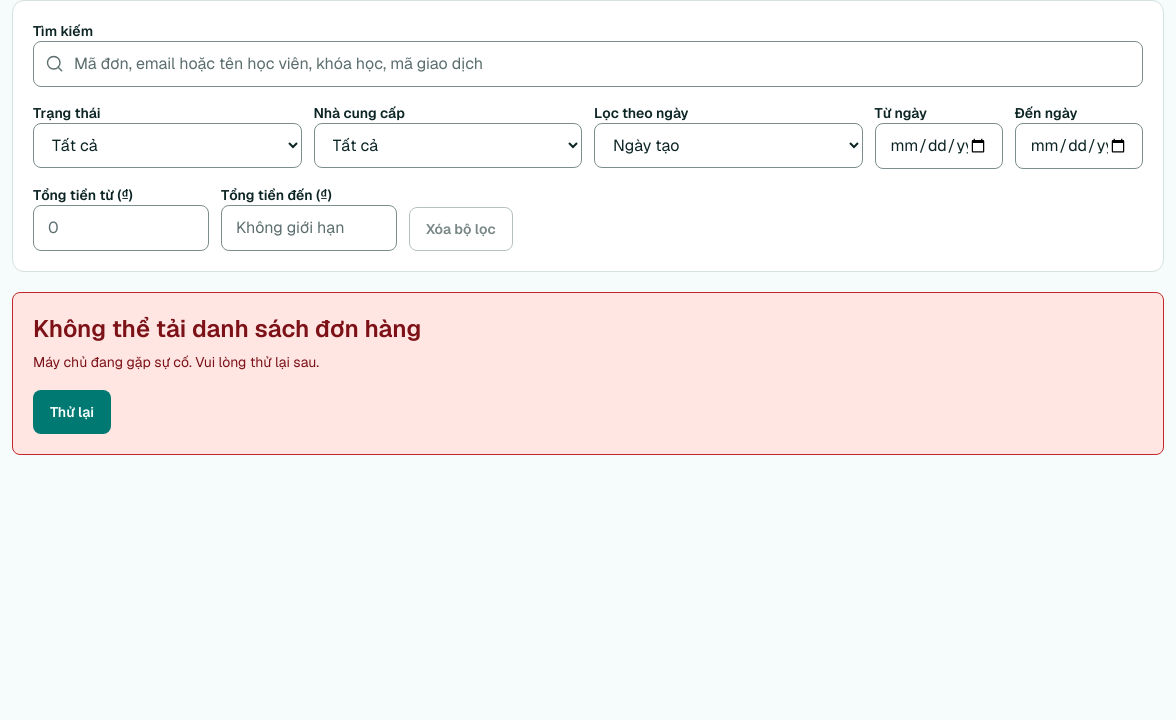
Scenario: OrdersView › shows a Vietnamese error and retries
This screenshot has width=1176, height=720.
Expected: the message shows "Không thể tải danh sách đơn hàng", [33, 313, 421, 344]
Expected: the message shows "Máy chủ đang gặp sự cố", [33, 353, 319, 371]
Click the button "Thử lại".
click(72, 412)  # box [33, 390, 111, 434]
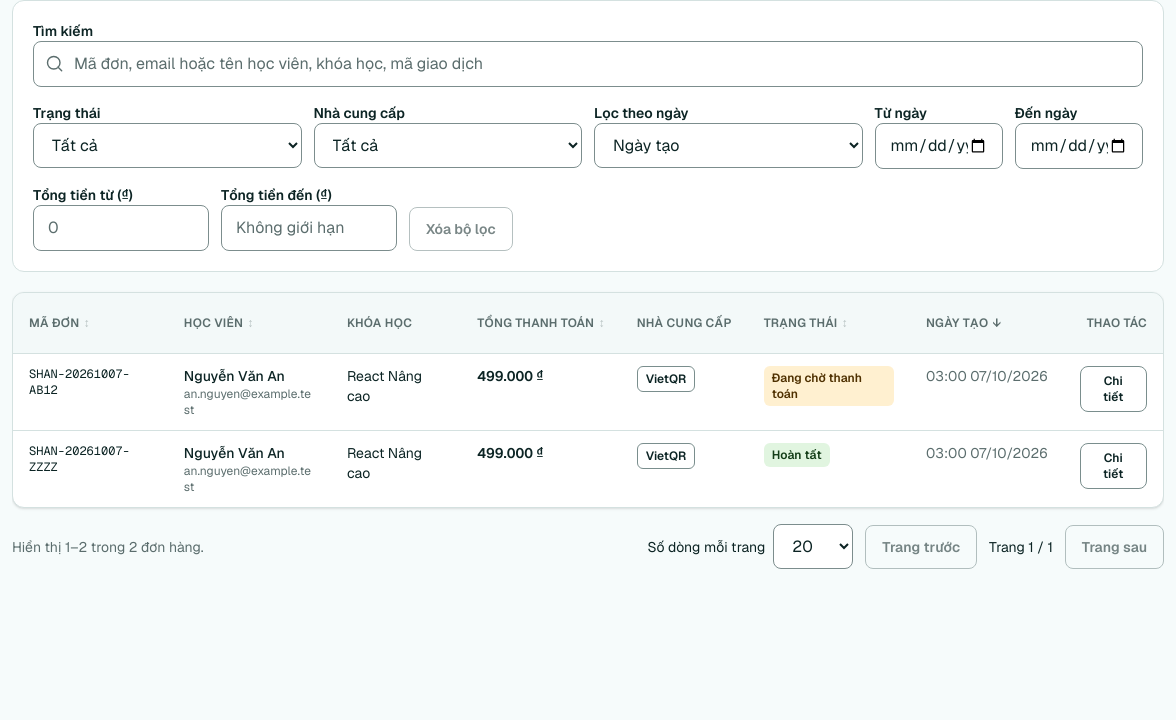
Expected: the text "SHAN-20261007-AB12" is shown, [13, 354, 168, 430]
